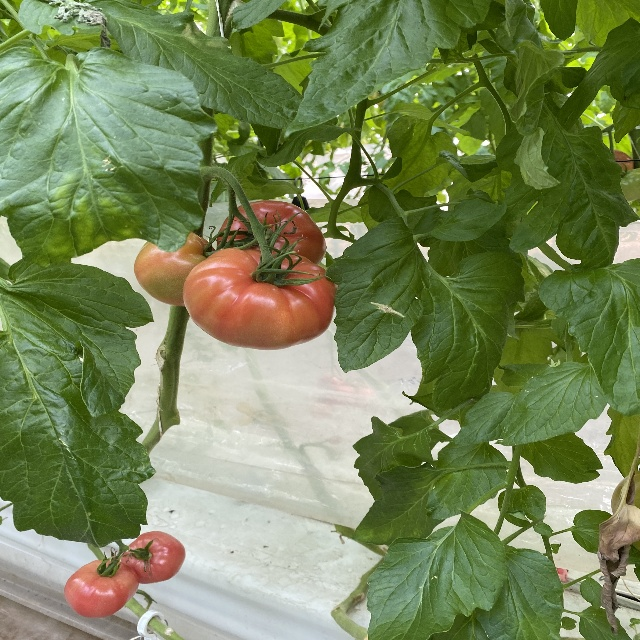b_fully_ripened: (120, 531, 186, 584)
b_half_ripened: (182, 247, 338, 350), (216, 200, 327, 265), (134, 232, 217, 307), (64, 560, 139, 618)
